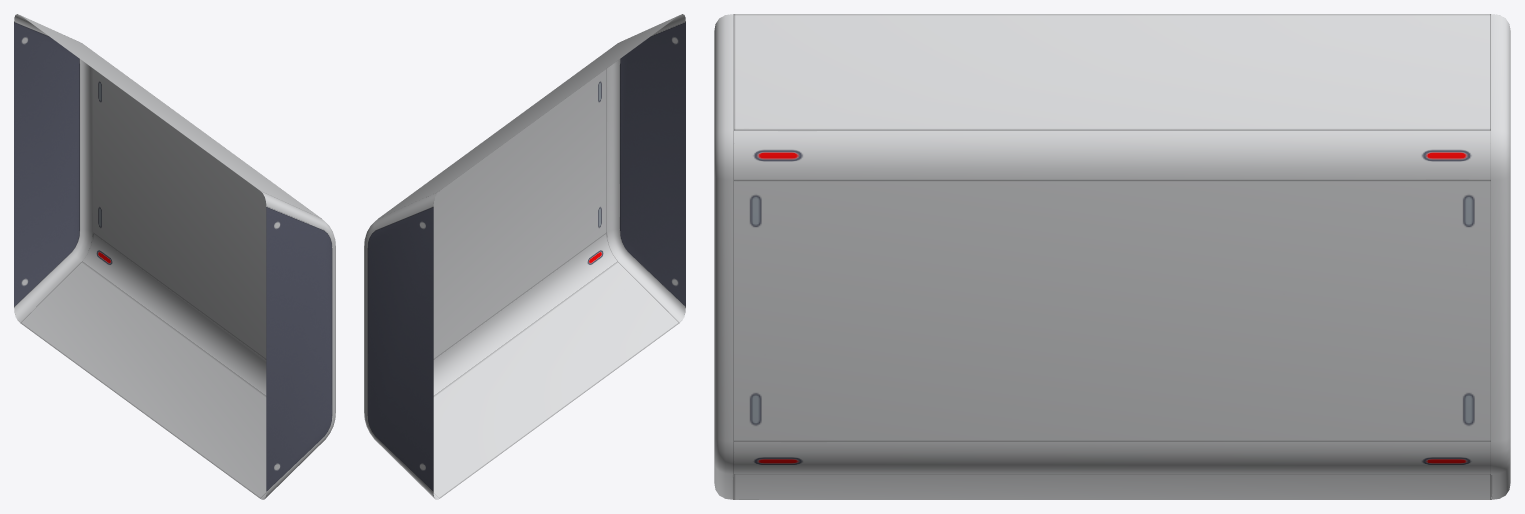
Rendered from Ext_Wall_Addon_05.FBX.
3 renders of one model, left to right at view 1: azimuth 30°, elevation 25°; view 2: azimuth 150°, elevation 25°; view 3: azimuth 270°, elevation 25°, orthographic. The views are drawn at different scales.
Visible parts, largest first — view 1: Ext_Wall_Addon_05; view 2: Ext_Wall_Addon_05; view 3: Ext_Wall_Addon_05.
Part boxes in pixels (x1,y1,x2,y2): Ext_Wall_Addon_05: [14, 14, 335, 499]; Ext_Wall_Addon_05: [364, 14, 685, 499]; Ext_Wall_Addon_05: [714, 14, 1510, 499].
Size of the model in its own units: 1 by 4.04 by 6.
Materials: 2 (2 with a texture image).
